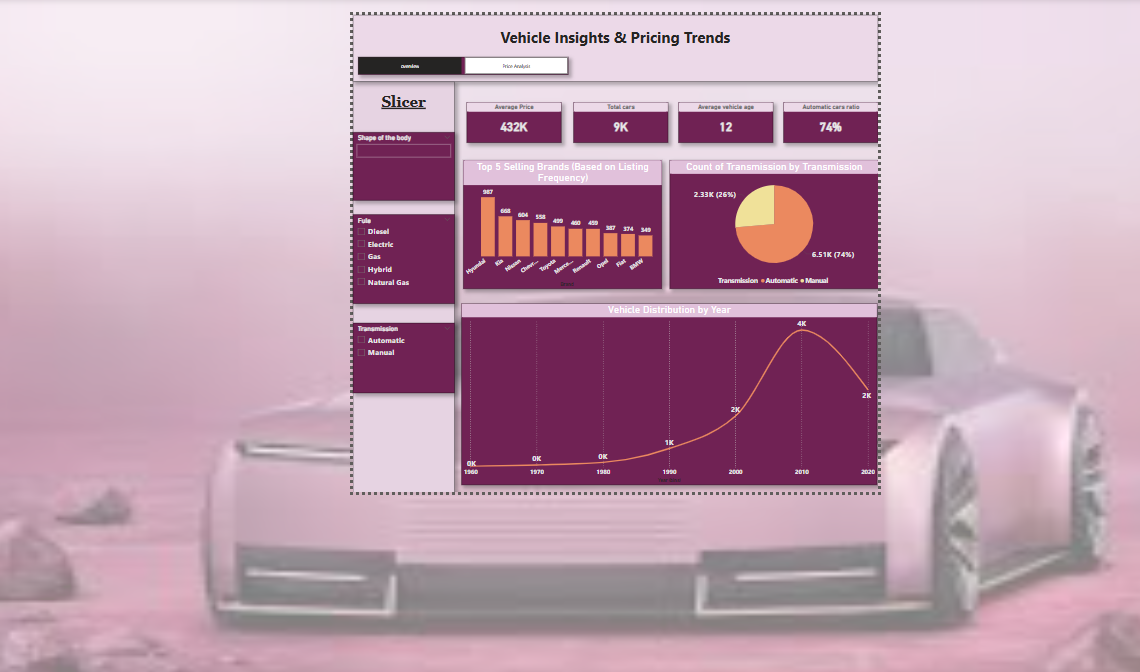

Layout of this report page (visuals, bound fields, positions):
{"tool":"powerbi","page":{"name":"overview","canvas":[1500,1364],"ordinal":0},"visuals":[{"type":"textbox","box":[0,190,290,1175],"z":0},{"type":"slicer","fields":{"Values":["Egypt-Used-Car-Price.Body"]},"box":[0,335,290,195],"z":1000},{"type":"slicer","fields":{"Values":["Egypt-Used-Car-Price.Fule"]},"box":[0,570,290,255],"z":2000},{"type":"slicer","fields":{"Values":["Egypt-Used-Car-Price.Transmission"]},"box":[0,880,290,200],"z":3000},{"type":"card","title":"Average Price","fields":{"Values":["Measure.Average Price"]},"box":[323.2,251.8,270,115],"z":4000},{"type":"card","title":"Total cars","fields":{"Values":["Measure.Total cars"]},"box":[630,250,270,115],"z":5000},{"type":"card","title":"Automatic cars ratio","fields":{"Values":["Measure.Automatic cars ratio"]},"box":[1230,250,270,115],"z":6000},{"type":"textbox","box":[0,0,1500,190],"z":7000},{"type":"card","title":"Average vehicle age","fields":{"Values":["Measure.Manual cars ratio"]},"box":[930,250,270,115],"z":8000},{"type":"pieChart","fields":{"Category":["Egypt-Used-Car-Price.Transmission"],"Y":["CountNonNull(Egypt-Used-Car-Price.Transmission)"]},"box":[902.5,412.5,597.5,367.5],"z":9000},{"type":"clusteredColumnChart","title":"Top 5 Selling Brands (Based on Listing Frequency)","fields":{"Category":["Egypt-Used-Car-Price.Brand","Egypt-Used-Car-Price.Model"],"Y":["CountNonNull(Egypt-Used-Car-Price.Index)"]},"box":[312.5,412.5,567.5,367.5],"z":10000},{"type":"lineChart","title":"Vehicle Distribution by Year","fields":{"Y":["CountNonNull(Egypt-Used-Car-Price.Index)"],"Category":["Egypt-Used-Car-Price.Year (bins)"]},"box":[307.5,822.5,1187.5,517.5],"z":11000},{"type":"pageNavigator","box":[12.5,120,600,50],"z":11001}]}

Visuals, with their boxes on the page's 1500x1364 design canvas (x1, y1, x2, y2). These are canvas units, not pixel positions in the 1140x672 screenshot, which may show the page scaled, cropped or inside an application window:
textbox: bbox(0, 190, 290, 1365)
slicer - Egypt-Used-Car-Price.Body: bbox(0, 335, 290, 530)
slicer - Egypt-Used-Car-Price.Fule: bbox(0, 570, 290, 825)
slicer - Egypt-Used-Car-Price.Transmission: bbox(0, 880, 290, 1080)
"Average Price" card: bbox(323, 252, 593, 367)
"Total cars" card: bbox(630, 250, 900, 365)
"Automatic cars ratio" card: bbox(1230, 250, 1500, 365)
textbox: bbox(0, 0, 1500, 190)
"Average vehicle age" card: bbox(930, 250, 1200, 365)
pieChart - Egypt-Used-Car-Price.Transmission x CountNonNull(Egypt-Used-Car-Price.Transmission): bbox(902, 412, 1500, 780)
"Top 5 Selling Brands (Based on Listing Frequency)" clusteredColumnChart: bbox(312, 412, 880, 780)
"Vehicle Distribution by Year" lineChart: bbox(308, 822, 1495, 1340)
pageNavigator: bbox(12, 120, 612, 170)
